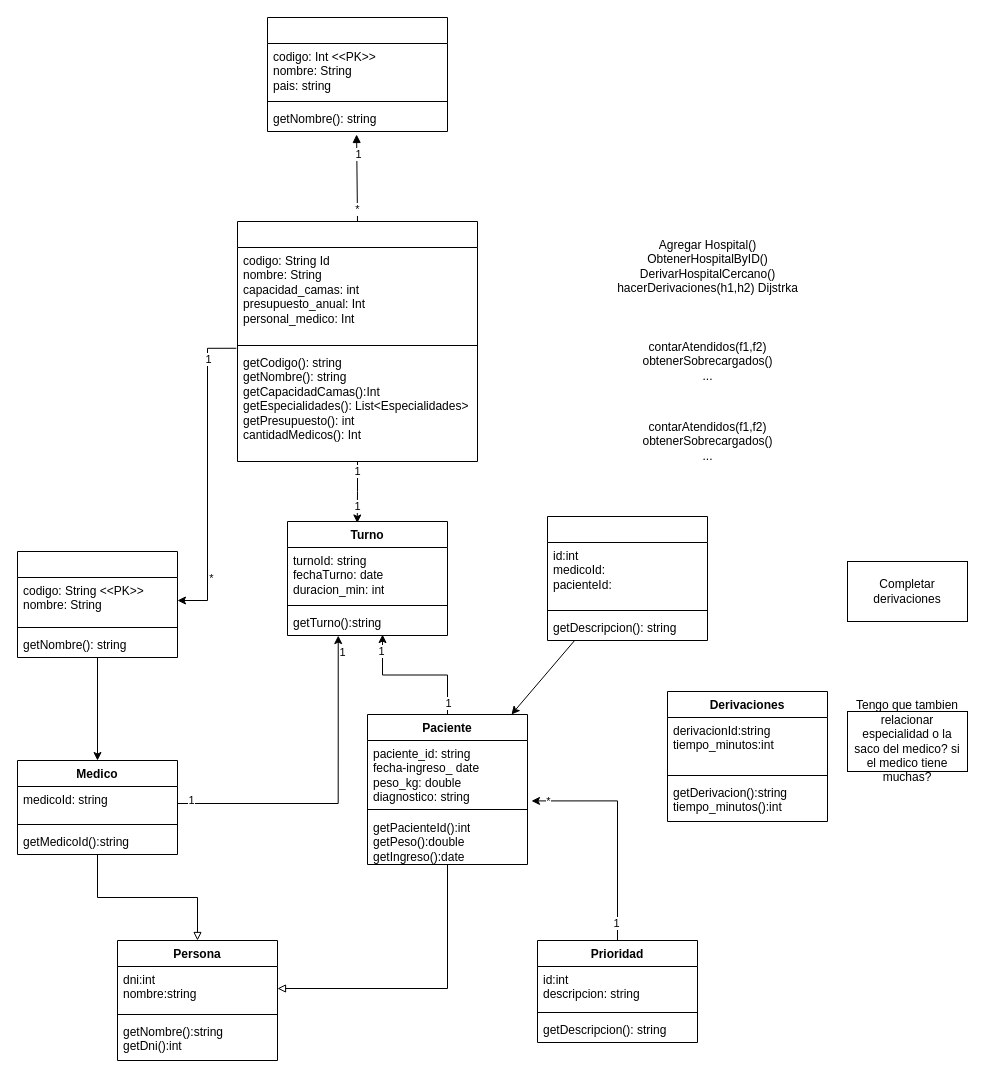
Image size: 985x1081. Some labels were removed from this diagram. The box of each missing label's shape, as (x1, y1, x2, y2) in pixels:
Ciudad: (266, 16, 448, 132)
Diagnostico: (546, 516, 708, 640)
Especialidad: (16, 550, 178, 658)
Hospital: (236, 220, 478, 462)
